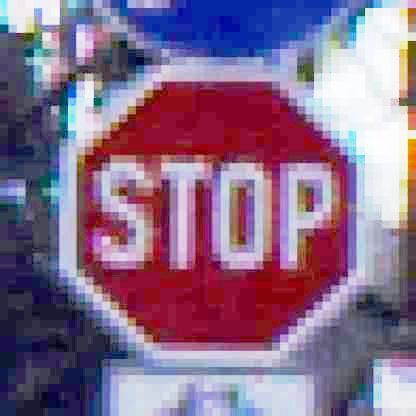Stop Sign: (61, 65, 378, 364)
